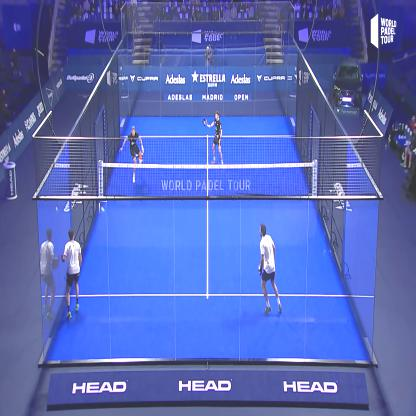ball: (100, 201, 108, 216)
